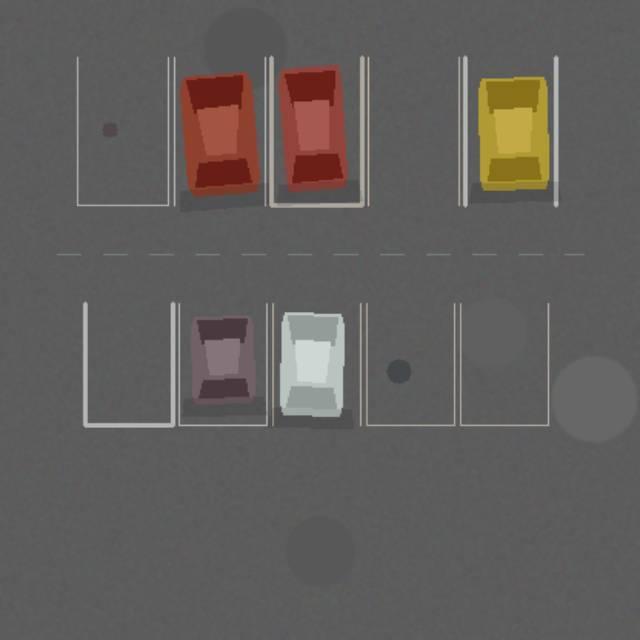space-empty: (77, 57, 168, 205), (368, 57, 458, 205), (366, 303, 454, 425), (460, 303, 548, 425), (85, 303, 172, 425)
space-occupied: (174, 57, 265, 205), (271, 57, 362, 205), (465, 57, 555, 205), (178, 303, 266, 425), (272, 303, 360, 425)
